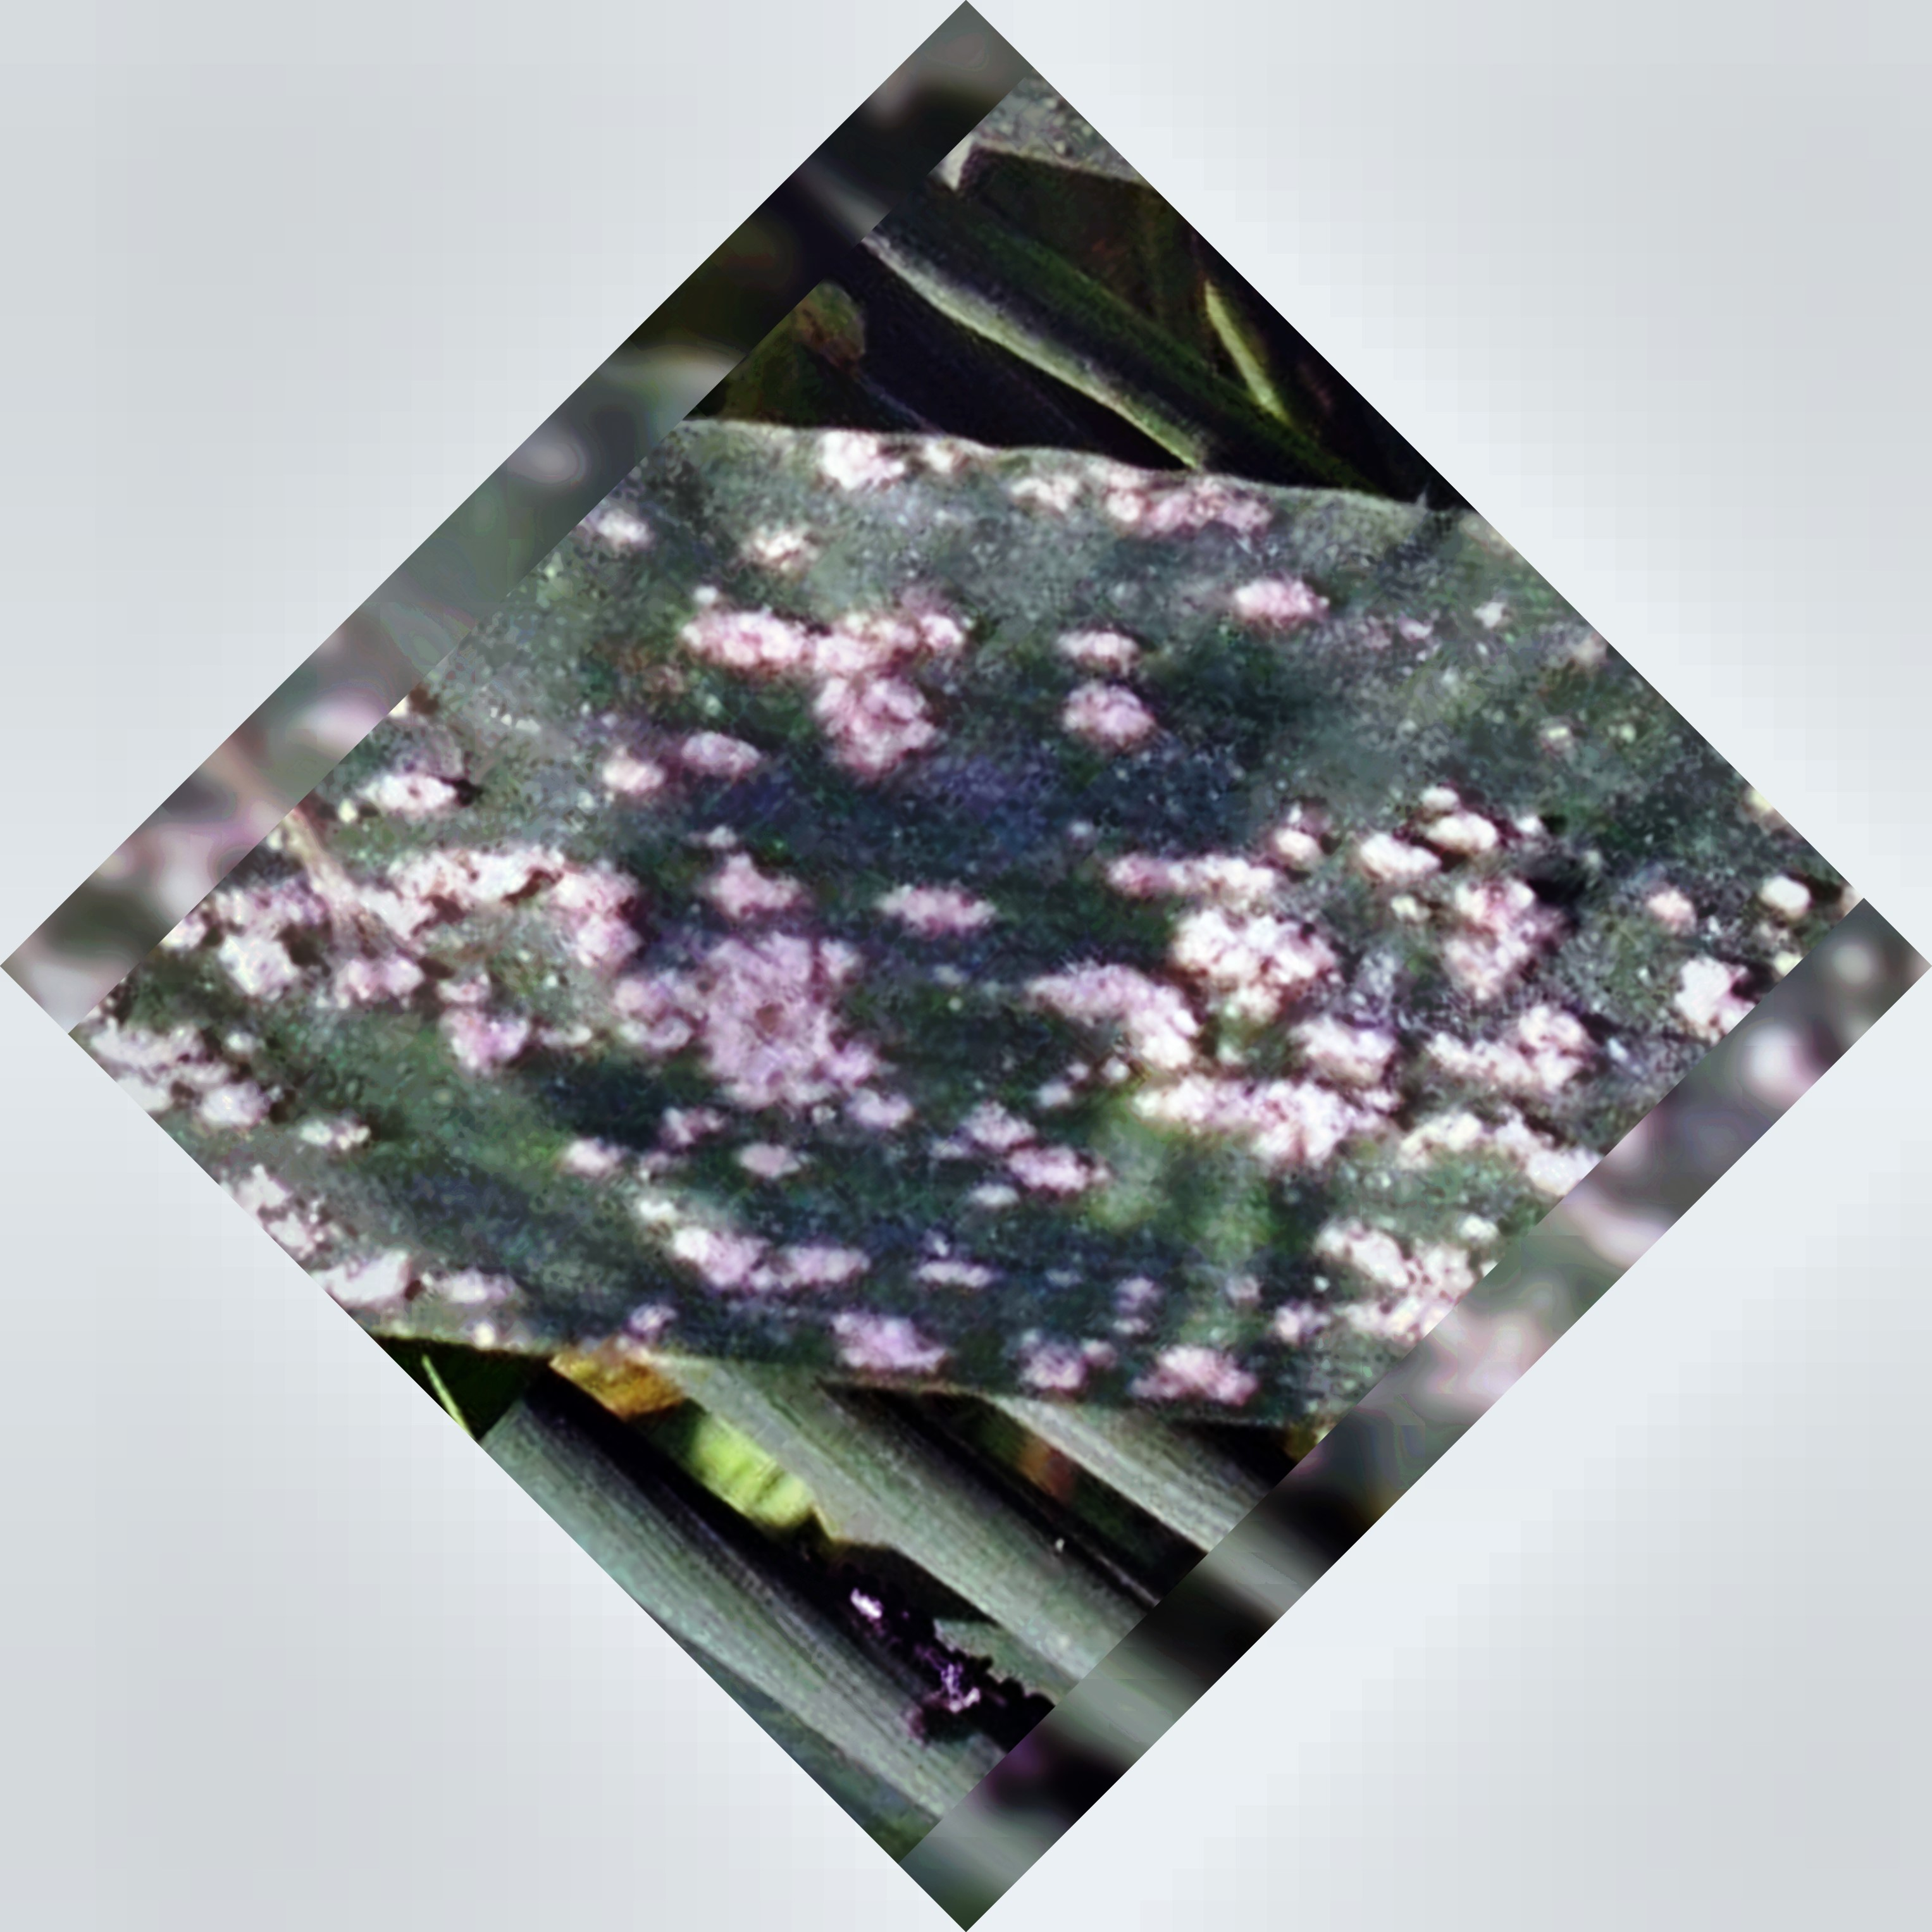Powdery Mildew: (306, 495, 1569, 1398)
